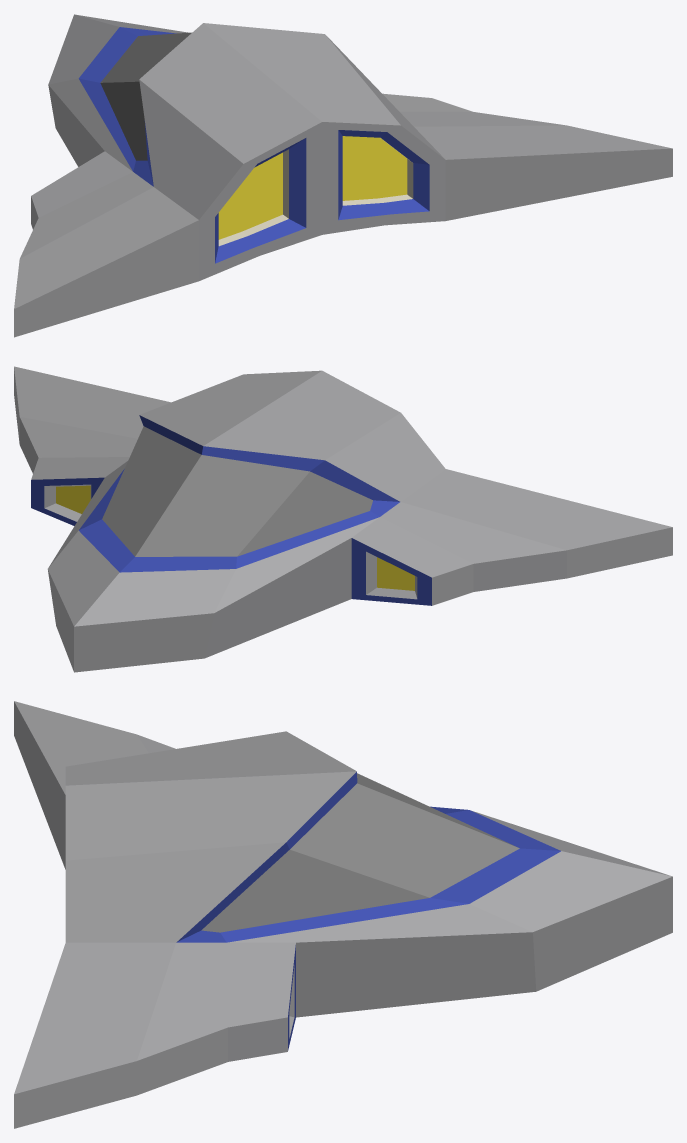
The model's file is PlayerShip 1.fbx.
3 renders of one model, top to bottom at view 1: azimuth 30°, elevation 25°; view 2: azimuth 150°, elevation 25°; view 3: azimuth 270°, elevation 25°, orthographic. The views are drawn at different scales.
Visible parts, largest first — view 1: Player; view 2: Player; view 3: Player.
Boxes of the visible parts, left/top/right/bottom form: Player: left=14, top=14, right=672, bottom=337; Player: left=14, top=366, right=672, bottom=672; Player: left=14, top=701, right=672, bottom=1128.
Bounding box in the file's own units: 808 × 169 × 572.
